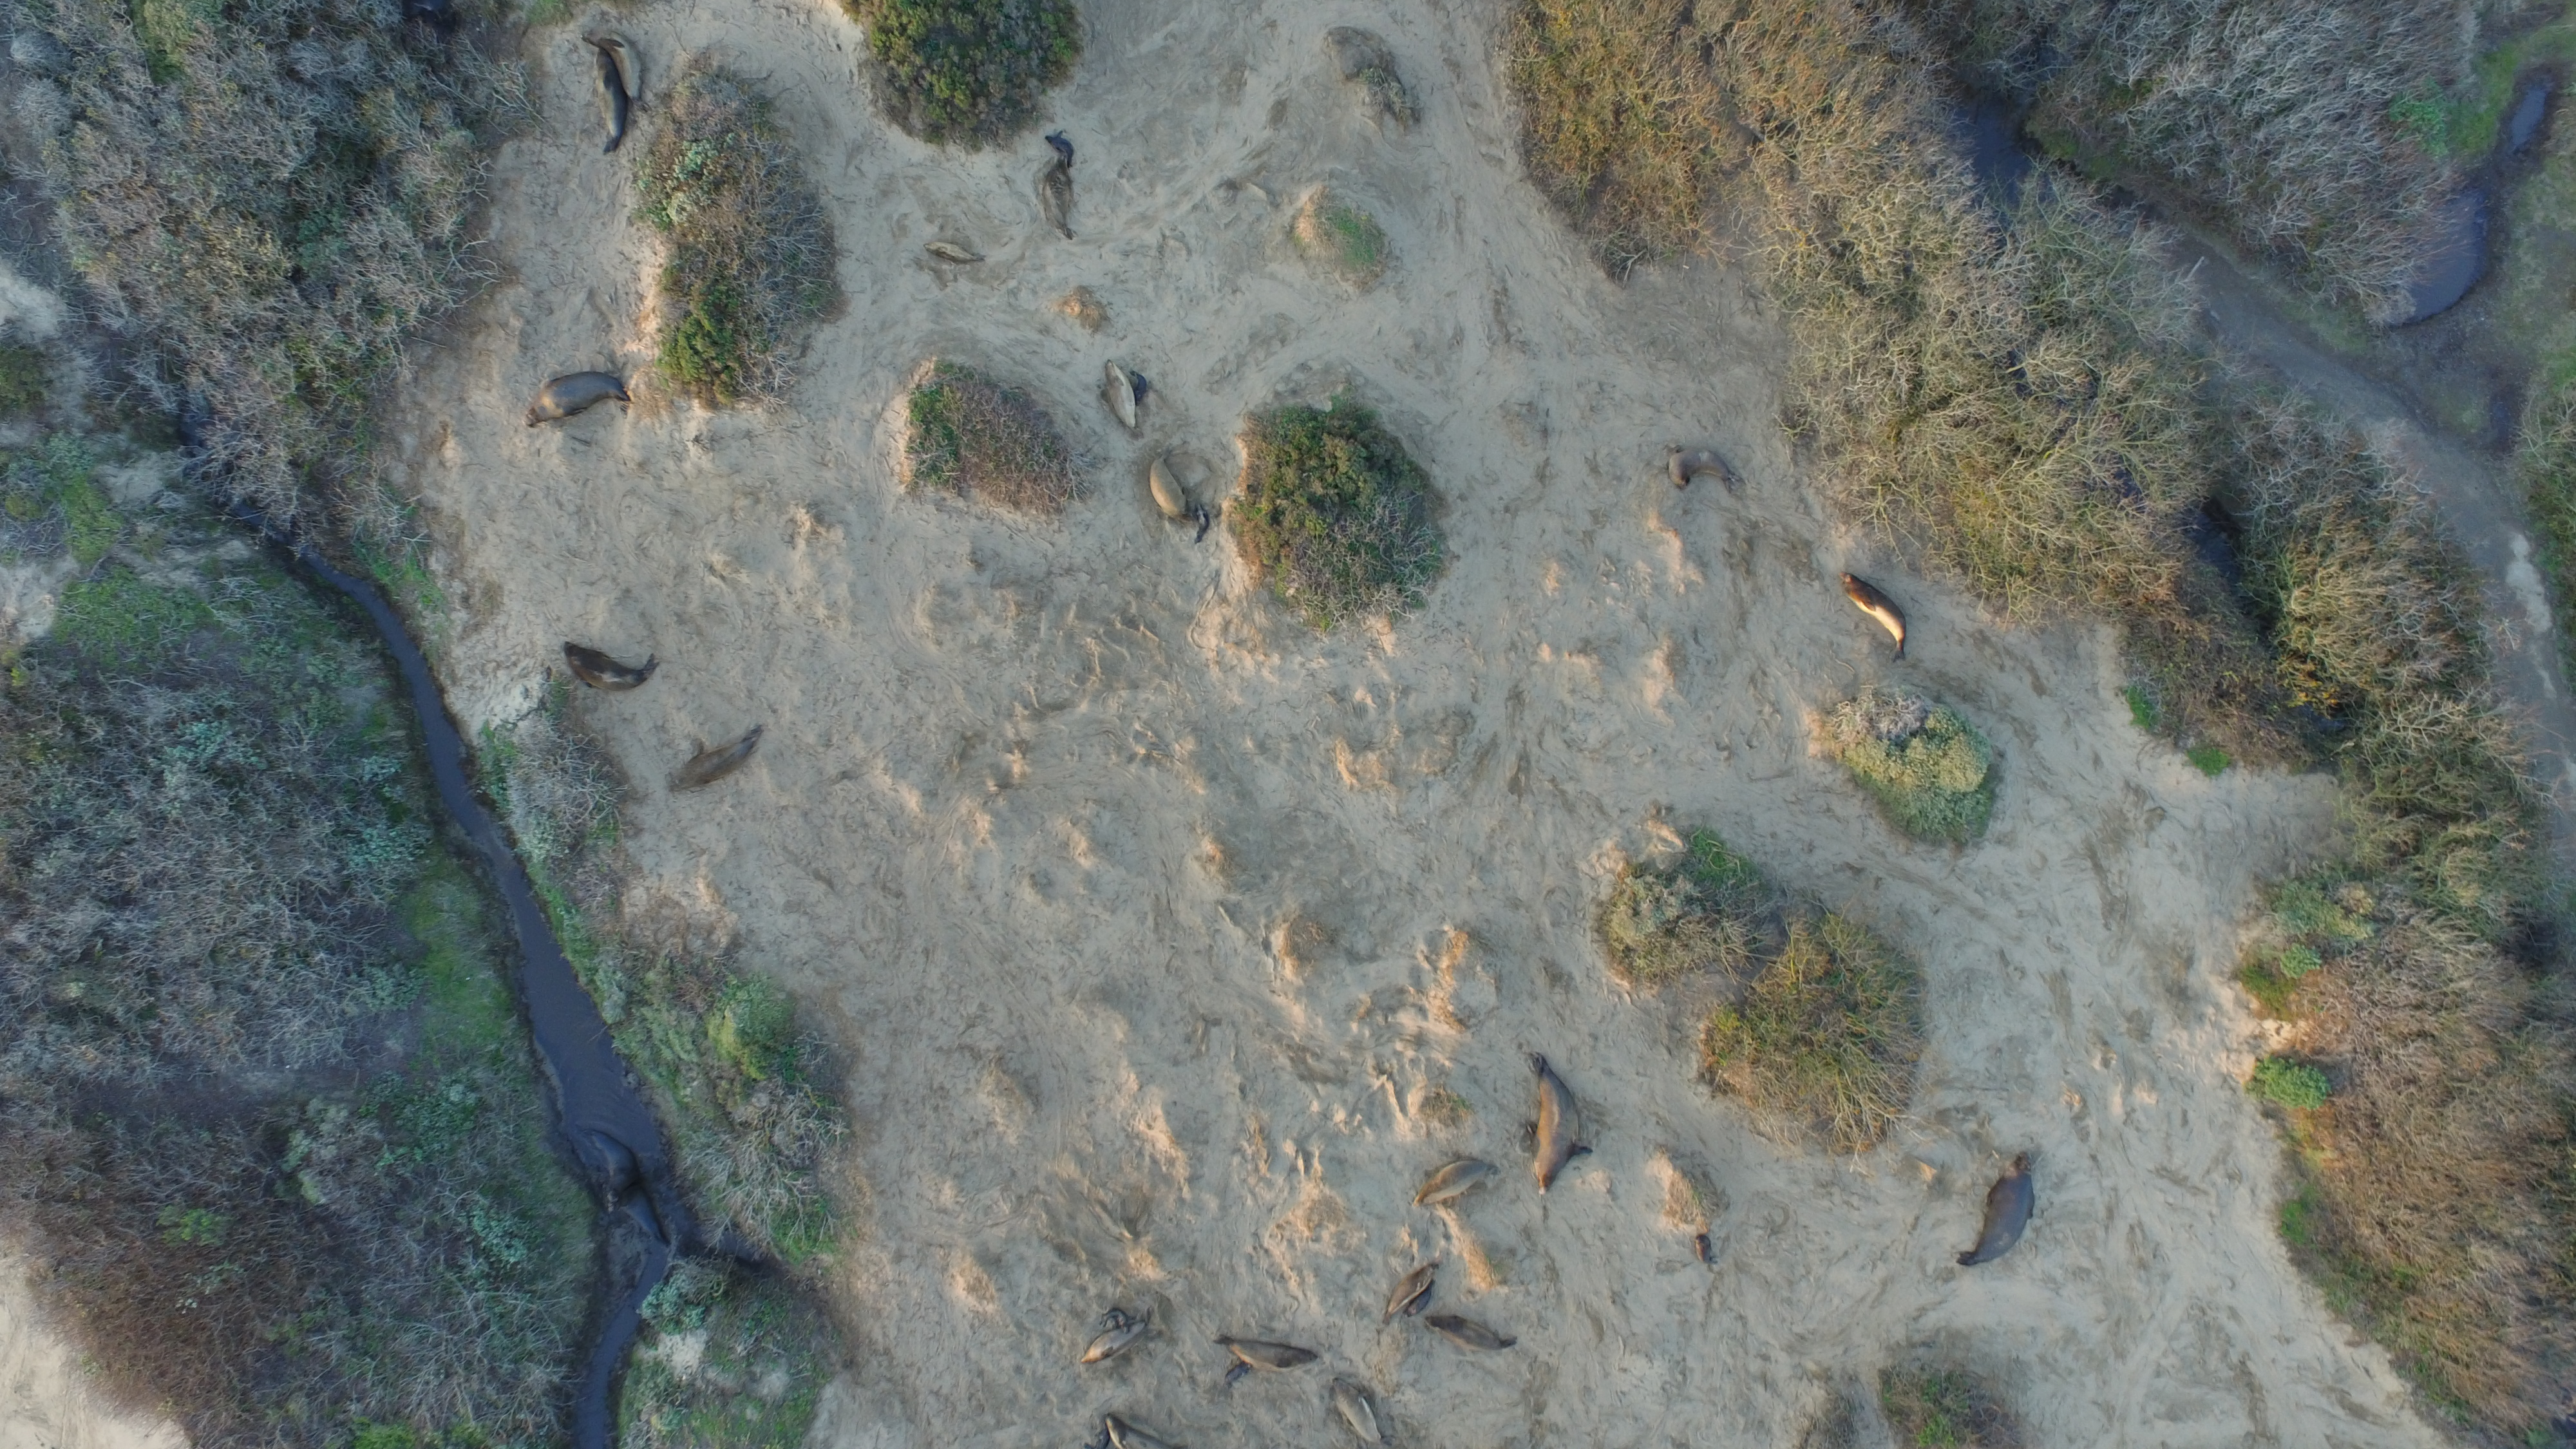adult male: (1497, 1051, 1606, 1196), (1950, 1145, 2059, 1274)
male juvenile / female juvenile / adult female: (570, 39, 653, 152), (653, 725, 775, 794), (1835, 566, 1921, 660), (515, 364, 637, 425), (580, 27, 669, 106), (575, 1127, 656, 1212), (548, 637, 662, 695), (594, 1185, 688, 1254), (1320, 1375, 1399, 1449), (1026, 157, 1092, 244), (1403, 1157, 1506, 1212), (1069, 1306, 1154, 1371), (1415, 1311, 1529, 1357), (1207, 1332, 1320, 1376), (1376, 1256, 1444, 1325), (1097, 359, 1154, 441), (1139, 449, 1198, 527), (1660, 442, 1744, 495), (1092, 1410, 1191, 1449)
pup: (920, 237, 991, 271), (1116, 364, 1161, 412), (1178, 499, 1217, 547), (1037, 133, 1086, 170), (1683, 1231, 1729, 1270), (1214, 1357, 1260, 1391), (1403, 1281, 1435, 1316), (1092, 1309, 1139, 1332)
